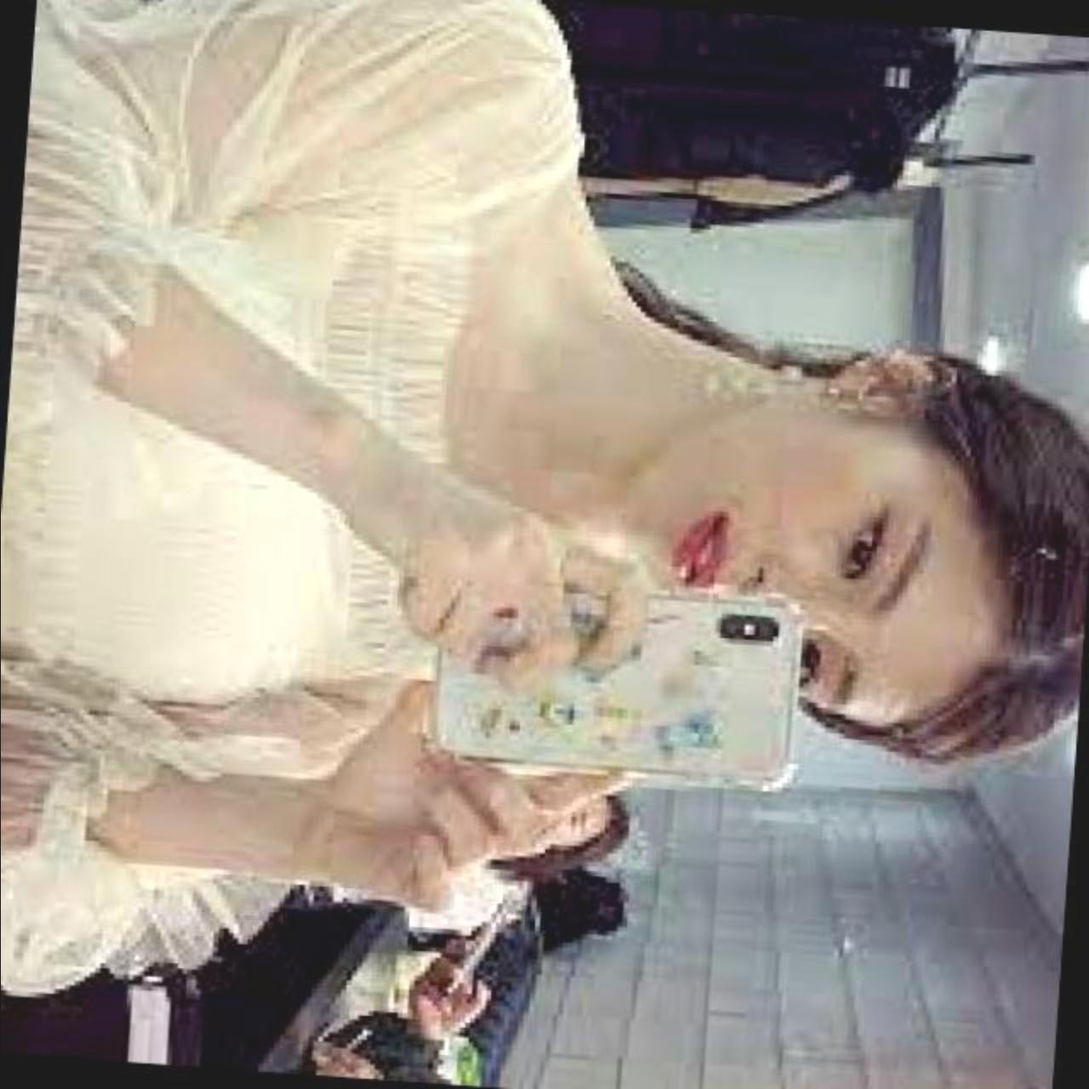phone: (424, 572, 813, 793)
